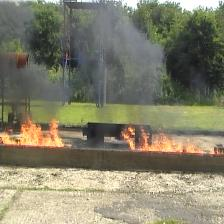fire: (122, 126, 224, 154), (0, 114, 71, 147)
